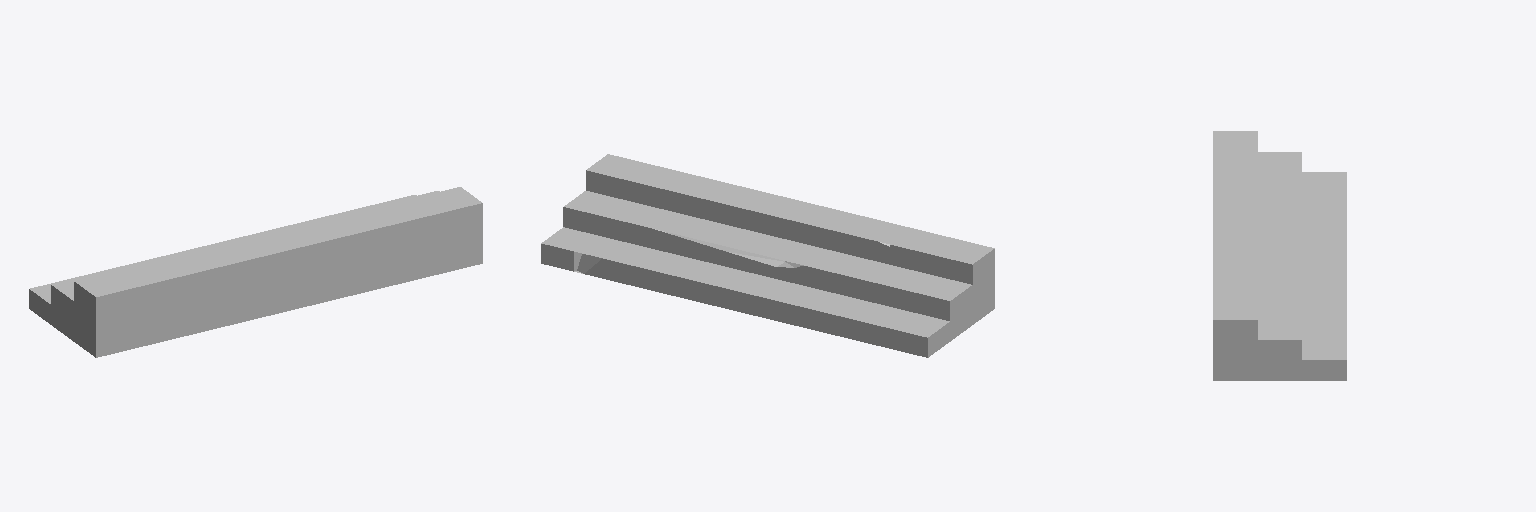
The model's file is step2.obj.
The picture shows the model from 3 angles: view 1: azimuth 30°, elevation 25°; view 2: azimuth 150°, elevation 25°; view 3: azimuth 270°, elevation 25°; orthographic projection.
Parts seen in each view (by area): view 1: Cube; view 2: Cube; view 3: Cube.
Boxes of the visible parts, <box> form: Cube: <box>29,187,482,357</box>; Cube: <box>541,154,994,357</box>; Cube: <box>1213,131,1346,380</box>.
Size of the model in its own units: 2 by 0.3 by 0.6.